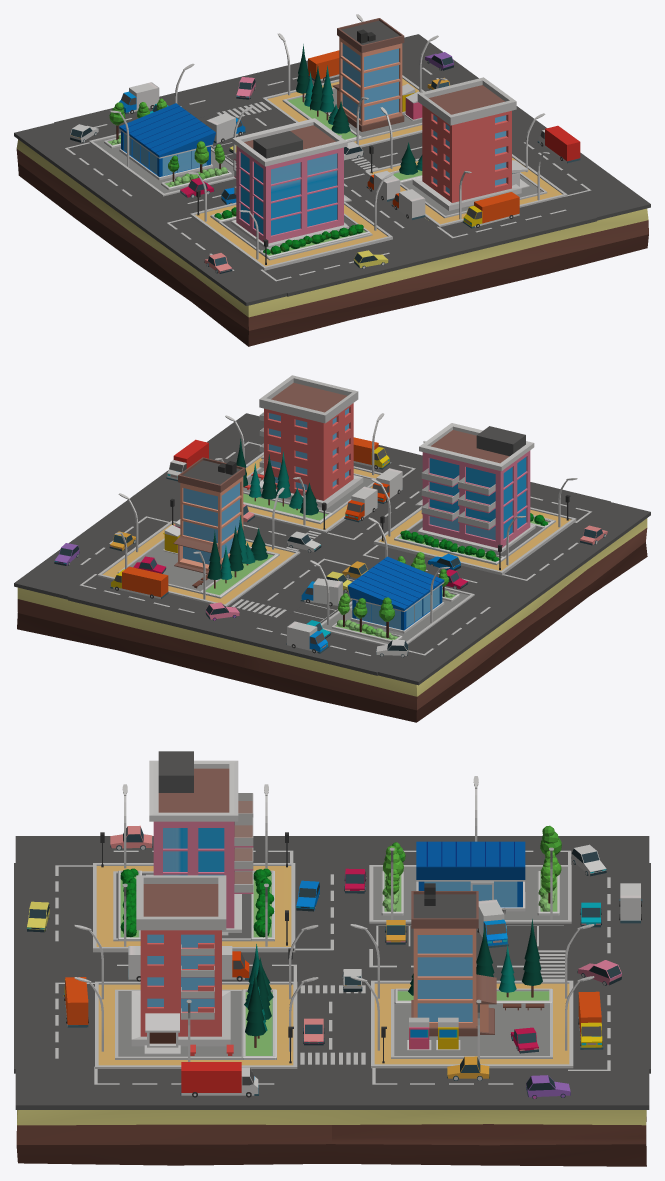
3 views of the same model, one above another, from view 1: azimuth 30°, elevation 25°; view 2: azimuth 150°, elevation 25°; view 3: azimuth 270°, elevation 25° (orthographic). The views are drawn at different scales.
Visible parts, largest first — view 1: ROAD, Floor_6, House, House_2, House_3, Shop, Floor, Floor_4_4, Floor_2, Car_08_3, Floor_3, Car_08_4 (+10 smaller); view 2: ROAD, Floor_6, House, House_2, House_3, Shop, Floor, Floor_3, Floor_4_4, Floor_4_3, Car_08_5, Floor_2 (+13 smaller); view 3: ROAD, Floor_6, House_2, House, House_3, Shop, Floor_3, Floor_4_3, Floor, Floor_2, Floor_4_4, Floor_4_2 (+25 smaller).
Boxes of the visible parts, x1,y1,x2,y2 form: ROAD: [14, 34, 650, 305]; Floor_6: [16, 139, 648, 346]; House: [231, 118, 351, 248]; House_2: [412, 77, 529, 210]; House_3: [332, 18, 404, 131]; Shop: [119, 103, 215, 180]; Floor: [190, 202, 392, 270]; Floor_4_4: [89, 133, 236, 196]; Floor_2: [365, 154, 567, 227]; Car_08_3: [462, 192, 519, 228]; Floor_3: [262, 75, 424, 147]; Car_08_4: [537, 125, 580, 163]; ROAD: [14, 413, 650, 685]; Floor_6: [17, 518, 647, 722]; House: [415, 423, 535, 553]; House_2: [259, 375, 363, 508]; House_3: [173, 457, 245, 573]; Shop: [347, 556, 444, 633]; Floor: [373, 506, 576, 575]; Floor_3: [97, 520, 300, 606]; Floor_4_4: [321, 586, 474, 645]; Floor_4_3: [117, 538, 279, 598]; Car_08_5: [110, 566, 168, 598]; Floor_2: [245, 452, 381, 533]; ROAD: [14, 836, 650, 1109]; Floor_6: [16, 1110, 646, 1166]; House_2: [131, 875, 230, 1054]; House: [146, 751, 253, 935]; House_3: [411, 883, 496, 1036]; Shop: [416, 841, 525, 911]; Floor_3: [371, 980, 573, 1068]; Floor_4_3: [391, 989, 552, 1058]; Floor: [93, 863, 295, 952]; Floor_2: [95, 981, 297, 1068]; Floor_4_4: [369, 865, 571, 923]; Floor_4_2: [115, 989, 276, 1059].
Size of the model in its own units: 2192 by 744 by 2192.
8 materials, 8 textured.
